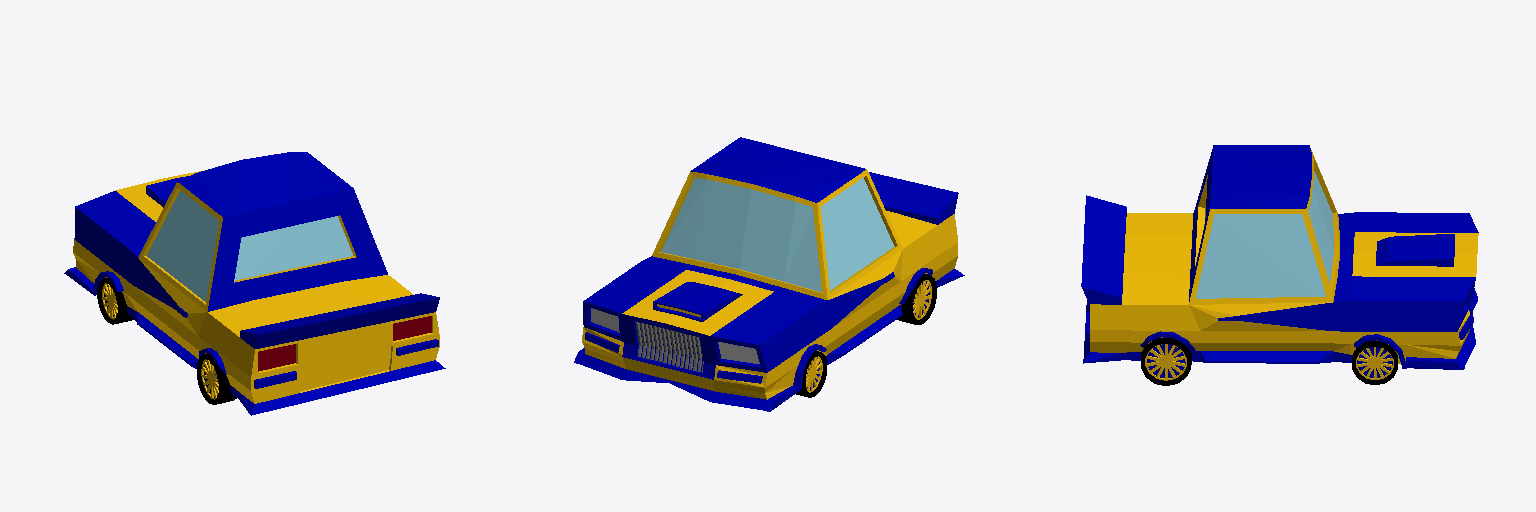
3 views of the same model, side by side, from view 1: azimuth 30°, elevation 25°; view 2: azimuth 150°, elevation 25°; view 3: azimuth 270°, elevation 25° (orthographic).
Parts seen in each view (by area): view 1: body_ID56, backlight_ID75, wheel.1_ID84, wheel1.1_ID93; view 2: body_ID56, lattice.1_ID29, wheel.1_ID84, headlight_ID66, wheel1.1_ID93; view 3: body_ID56, wheel.1_ID84, wheel1.1_ID93.
Boxes of the visible parts, x1,y1,x2,y2 form: body_ID56: [64, 152, 445, 415]; backlight_ID75: [258, 316, 431, 371]; wheel.1_ID84: [197, 354, 236, 404]; wheel1.1_ID93: [97, 278, 133, 324]; body_ID56: [574, 137, 964, 411]; lattice.1_ID29: [635, 321, 703, 372]; wheel.1_ID84: [897, 274, 936, 324]; headlight_ID66: [591, 308, 759, 363]; wheel1.1_ID93: [796, 351, 826, 397]; body_ID56: [1081, 145, 1478, 369]; wheel.1_ID84: [1141, 338, 1191, 385]; wheel1.1_ID93: [1352, 341, 1397, 384].
Bounding box in the file's own units: 0.6547 × 0.5142 × 1.1.
Materials: 7 (7 with a texture image).